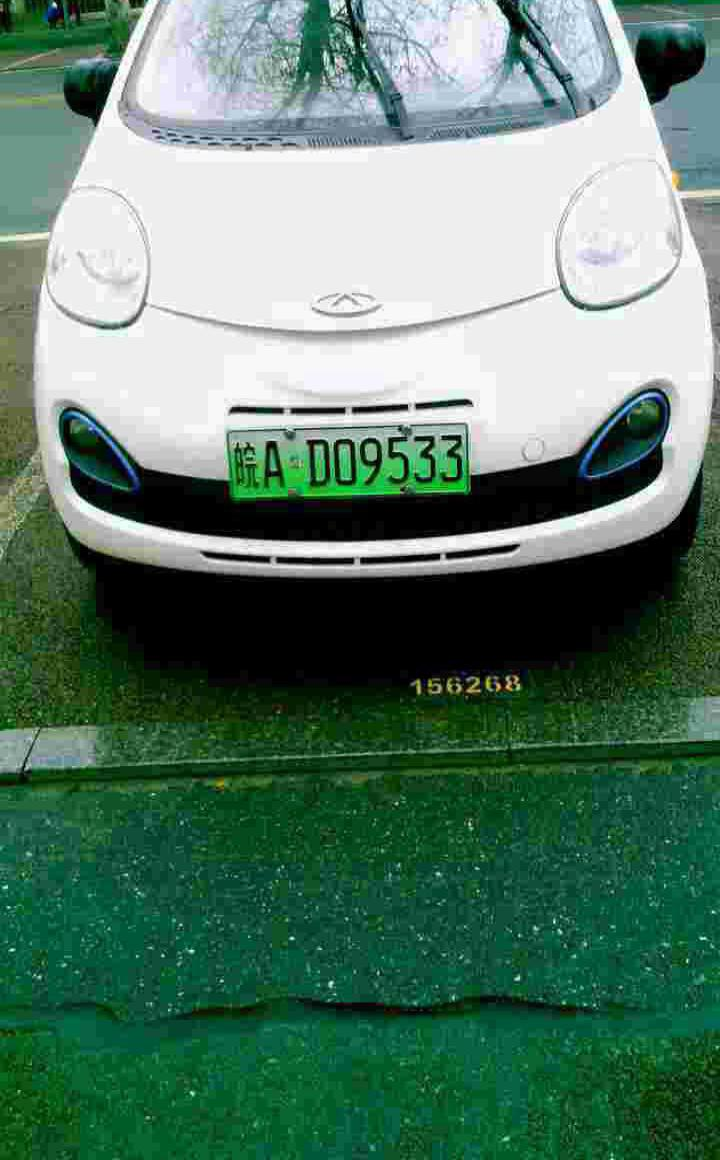car_green: (218, 415, 476, 509)
